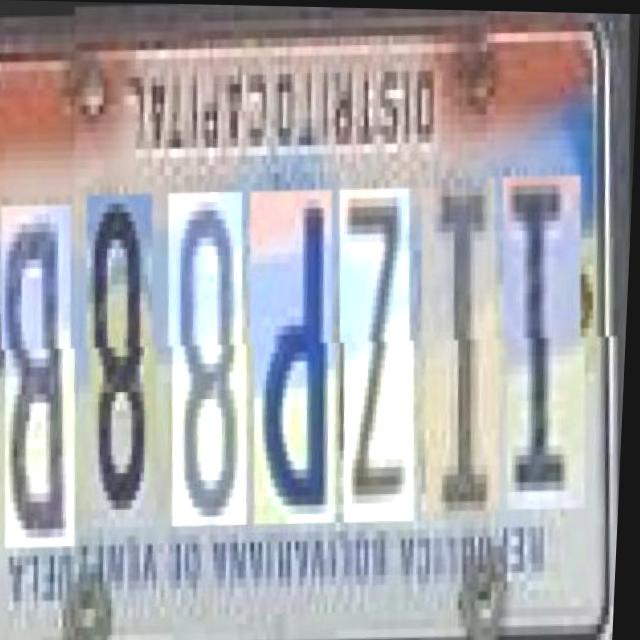8: (164, 186, 262, 523), (82, 188, 171, 524)
b: (0, 189, 89, 534)
i: (499, 180, 600, 517), (416, 181, 513, 518)
p: (246, 185, 350, 522)
z: (335, 183, 428, 520)
